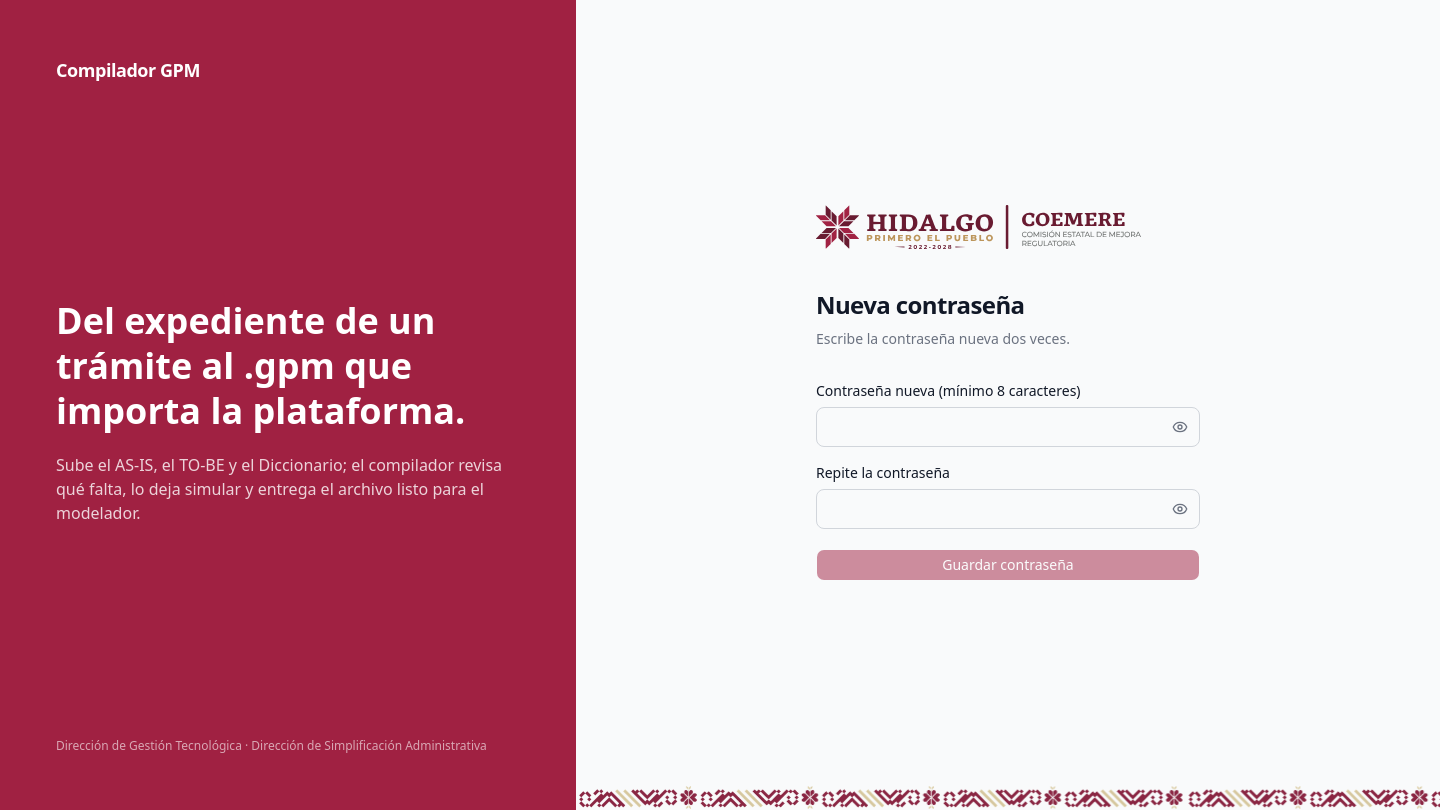
Test: una liga vencida lo dice y manda a pedir otra
The width and height of the screenshot is (1440, 810).
In the password field labelled "Contraseña nueva (mínimo 8 caracteres)": coordinates (1008, 427) [816,407,1200,447], type "Nueva-789!"
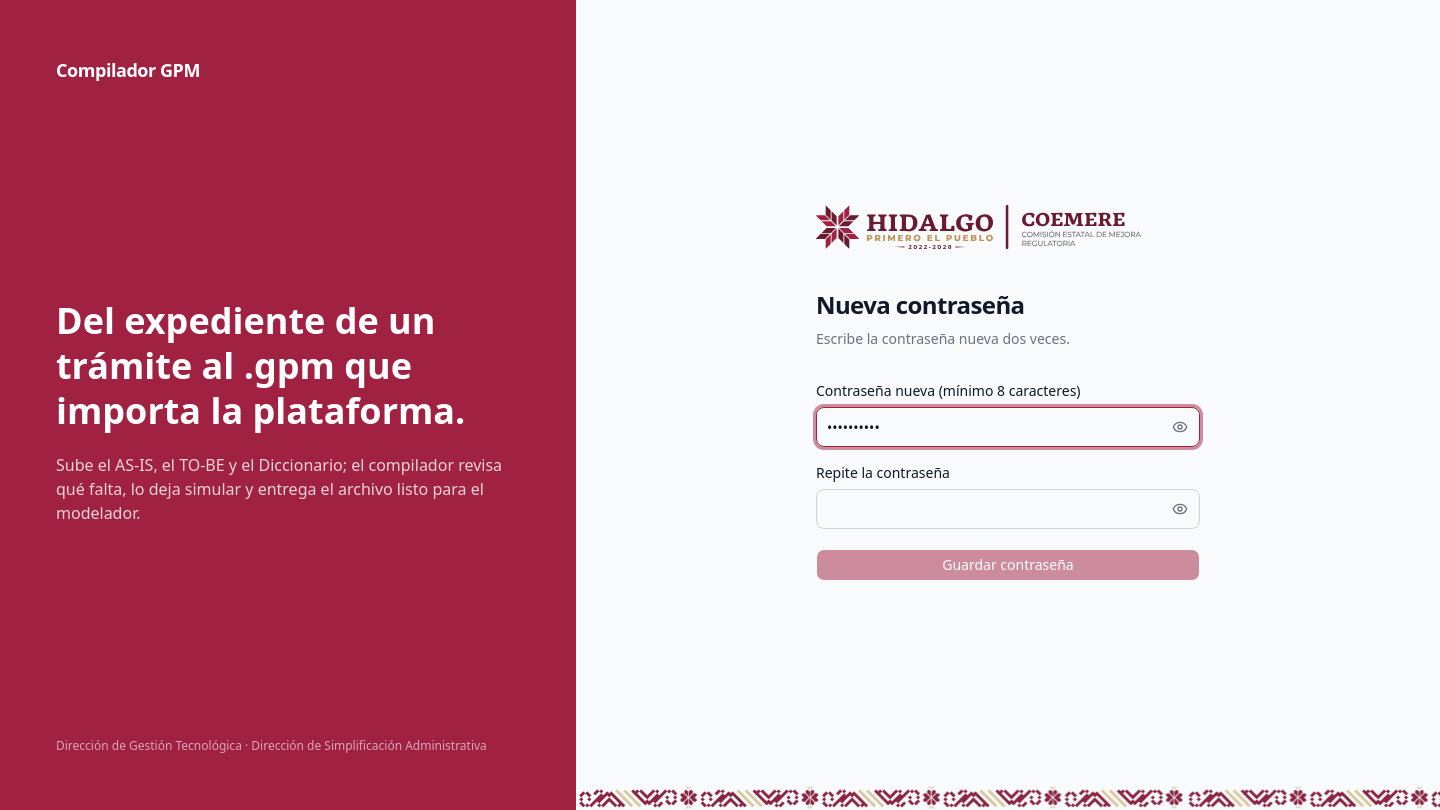
In the password field labelled "Repite la contraseña": coordinates (1008, 509) [816,489,1200,529], type "Nueva-789!"
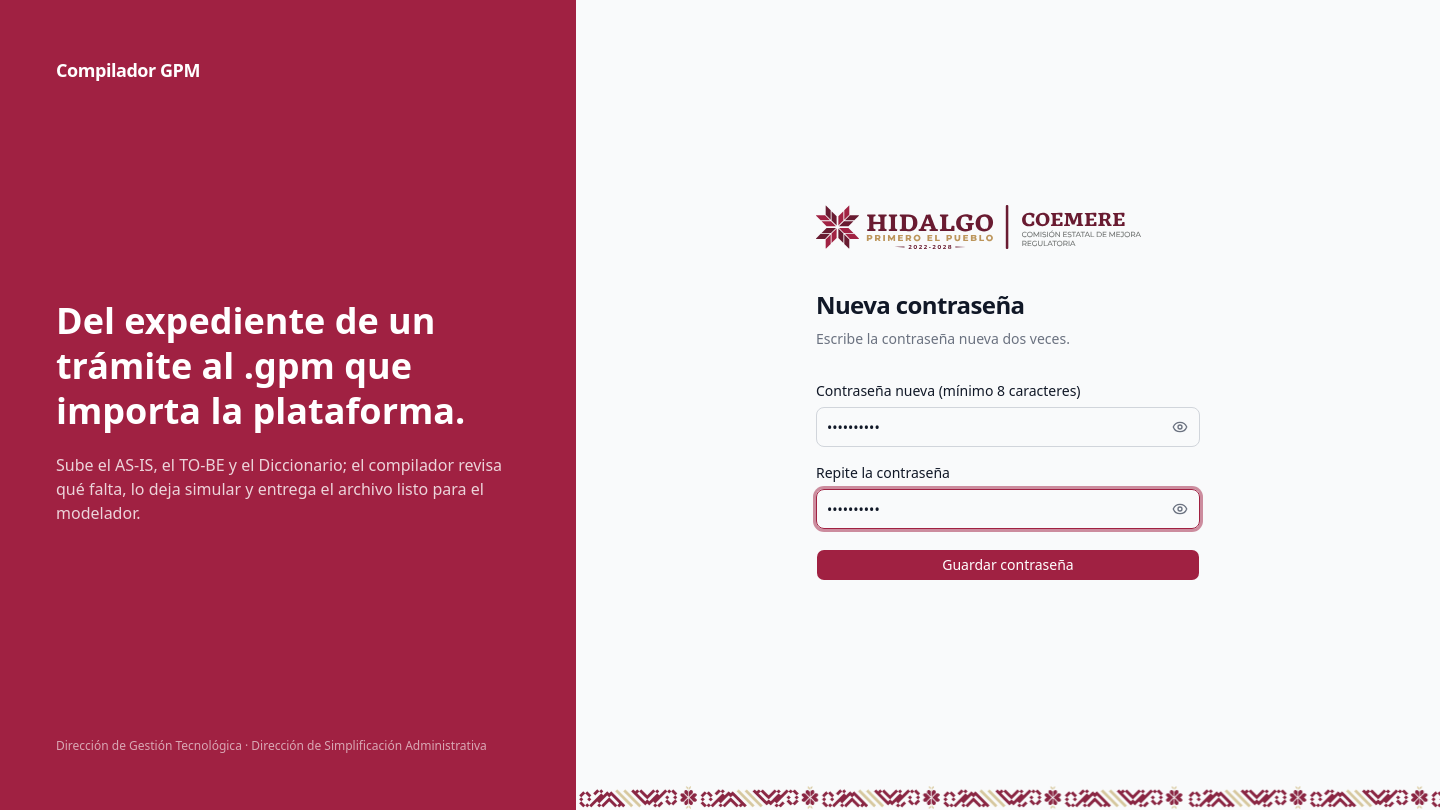
Click the button "Guardar contraseña": coordinates (1008, 565) [816,549,1200,581]
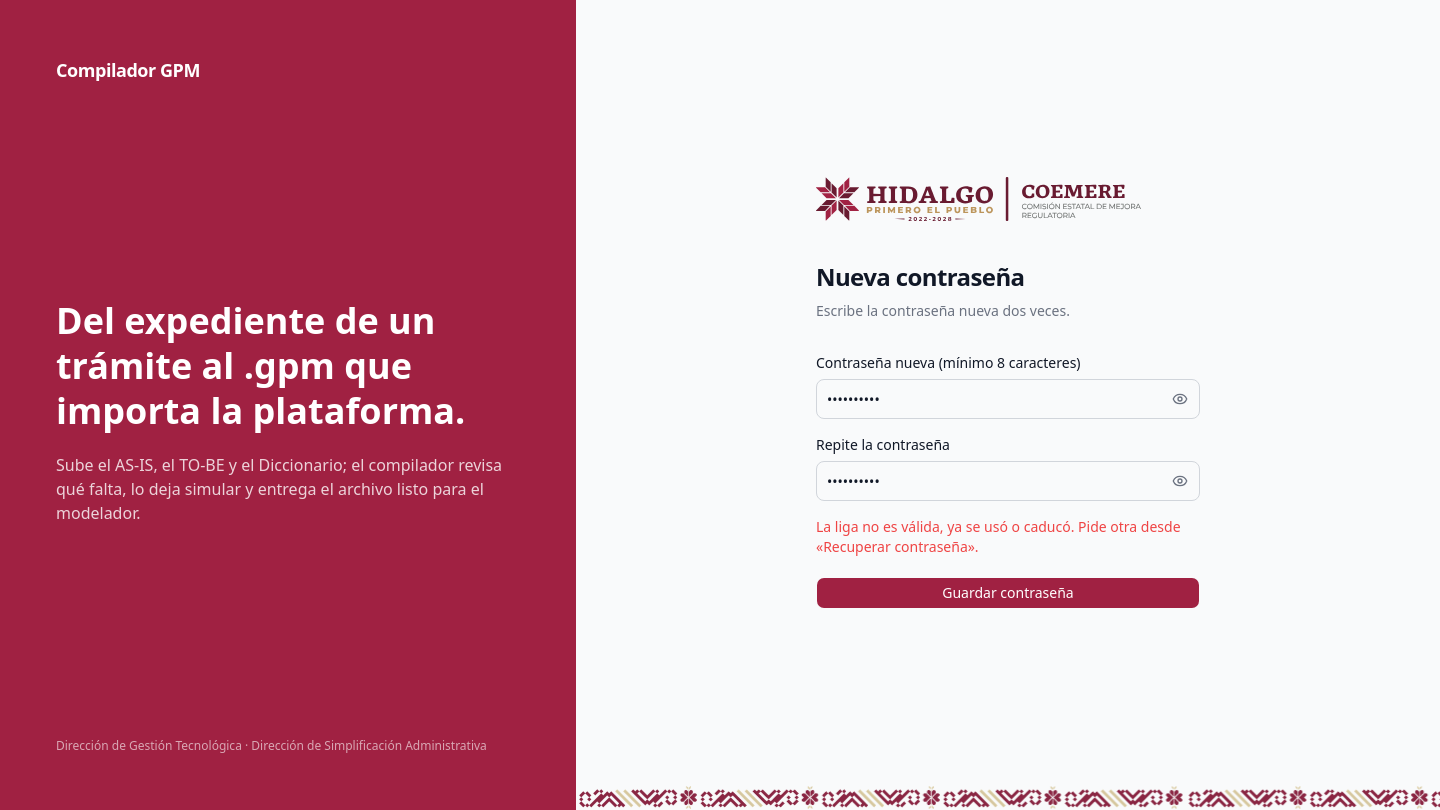
Expected: the message shows "no es válida, ya se usó o caducó", [816,517,1180,556]
